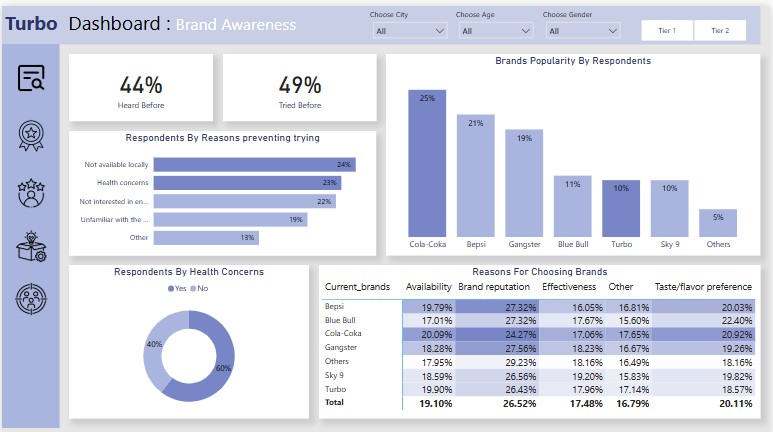

What the dashboard file says about the page in this screenshot:
{"tool":"powerbi","page":{"name":"Brand Awarness","canvas":[1280,720],"ordinal":1},"visuals":[{"type":"card","fields":{"Values":["Measures (2).Heard_Before_Count"]},"box":[112,80,240,112],"z":0},{"type":"card","fields":{"Values":["Measures (2).Tried Before"]},"box":[368,80,256,112],"z":1000},{"type":"barChart","title":"Respondents  By Reasons preventing trying","fields":{"Category":["fact_survey_responses.Reasons_preventing_trying"],"Y":["CountNonNull(fact_survey_responses.Respondent_ID)"]},"box":[112,208,512,208],"z":2000},{"type":"donutChart","title":"Respondents By Health Concerns","fields":{"Category":["fact_survey_responses.Health_concerns"],"Y":["CountNonNull(fact_survey_responses.Respondent_ID)"]},"box":[112,432,400,256],"z":3000},{"type":"textbox","box":[0,0,1264,64],"z":4000},{"type":"columnChart","title":"Brands Popularity By Respondents","fields":{"Category":["fact_survey_responses.Current_brands"],"Y":["CountNonNull(fact_survey_responses.Response_ID)"]},"box":[640,80,624,336],"z":5000},{"type":"slicer","title":"City","fields":{"Values":["dim_cities.City"]},"box":[608,16,144,48],"z":6000},{"type":"pivotTable","title":"Reasons For Choosing Brands","fields":{"Columns":["fact_survey_responses.Reasons_for_choosing_brands"],"Rows":["fact_survey_responses.Current_brands"],"Values":["CountNonNull(fact_survey_responses.Response_ID)"]},"box":[528,432,736,256],"z":7000},{"type":"slicer","title":"Age","fields":{"Values":["dim_repondents.Age"]},"box":[752,16,144,48],"z":8000},{"type":"slicer","title":"Gender","fields":{"Values":["dim_repondents.Gender"]},"box":[896,16,144,48],"z":9000},{"type":"slicer","fields":{"Values":["dim_cities.Tier"]},"box":[1040,16,224,48],"z":10000},{"type":"shape","box":[0,64,96,640],"z":11000},{"type":"image","box":[16,80,64,80],"z":12000},{"type":"image","box":[16,176,64,80],"z":13000},{"type":"image","box":[16,272,64,80],"z":14000},{"type":"image","box":[16,368,64,64],"z":15000},{"type":"image","box":[16,448,64,80],"z":16000},{"type":"textbox","box":[752,0,112,32],"z":17000},{"type":"textbox","box":[608,0,112,32],"z":18000},{"type":"textbox","box":[896,0,112,32],"z":19000}]}

Visuals, with their boxes in screenshot pixels (x1, y1, x2, y2), scaled from the page's 1280x720 canvas onto the 773x432 screenshot:
card - Measures (2).Heard_Before_Count: {"x1": 68, "y1": 48, "x2": 213, "y2": 115}
card - Measures (2).Tried Before: {"x1": 222, "y1": 48, "x2": 377, "y2": 115}
"Respondents  By Reasons preventing trying" barChart: {"x1": 68, "y1": 125, "x2": 377, "y2": 250}
"Respondents By Health Concerns" donutChart: {"x1": 68, "y1": 259, "x2": 309, "y2": 413}
textbox: {"x1": 0, "y1": 0, "x2": 763, "y2": 38}
"Brands Popularity By Respondents" columnChart: {"x1": 386, "y1": 48, "x2": 763, "y2": 250}
"City" slicer: {"x1": 367, "y1": 10, "x2": 454, "y2": 38}
"Reasons For Choosing Brands" pivotTable: {"x1": 319, "y1": 259, "x2": 763, "y2": 413}
"Age" slicer: {"x1": 454, "y1": 10, "x2": 541, "y2": 38}
"Gender" slicer: {"x1": 541, "y1": 10, "x2": 628, "y2": 38}
slicer - dim_cities.Tier: {"x1": 628, "y1": 10, "x2": 763, "y2": 38}
shape: {"x1": 0, "y1": 38, "x2": 58, "y2": 422}
image: {"x1": 10, "y1": 48, "x2": 48, "y2": 96}
image: {"x1": 10, "y1": 106, "x2": 48, "y2": 154}
image: {"x1": 10, "y1": 163, "x2": 48, "y2": 211}
image: {"x1": 10, "y1": 221, "x2": 48, "y2": 259}
image: {"x1": 10, "y1": 269, "x2": 48, "y2": 317}
textbox: {"x1": 454, "y1": 0, "x2": 522, "y2": 19}
textbox: {"x1": 367, "y1": 0, "x2": 435, "y2": 19}
textbox: {"x1": 541, "y1": 0, "x2": 609, "y2": 19}
